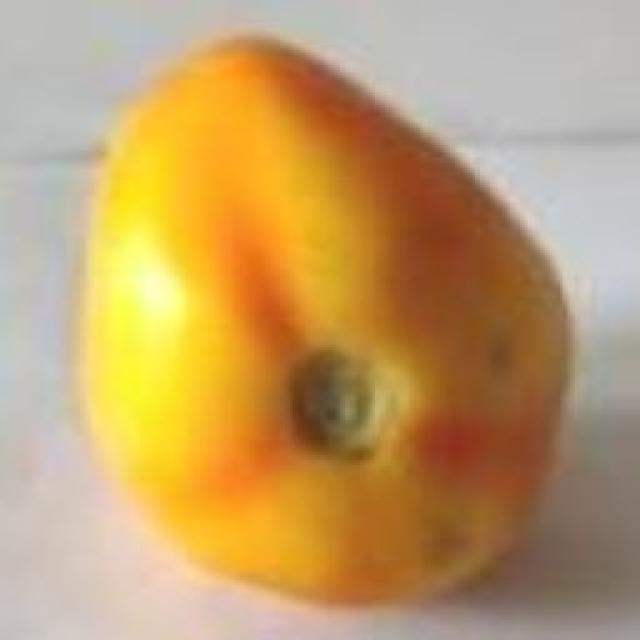unripe: (187, 158, 364, 514)
